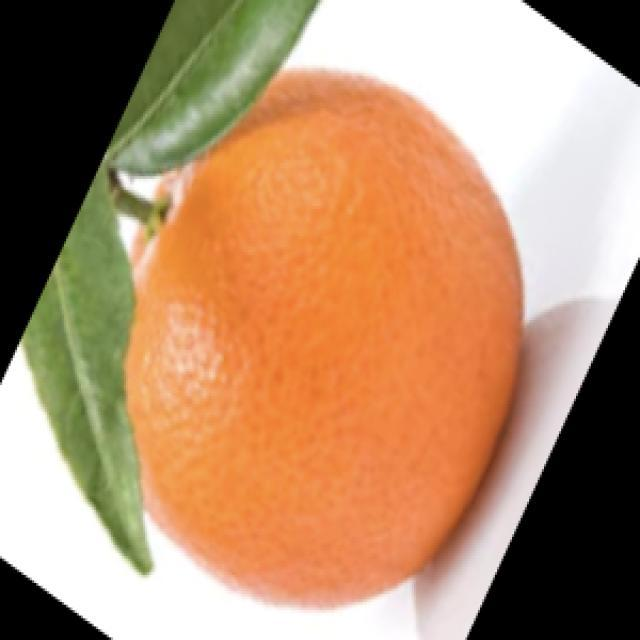matang: (127, 70, 522, 605)
